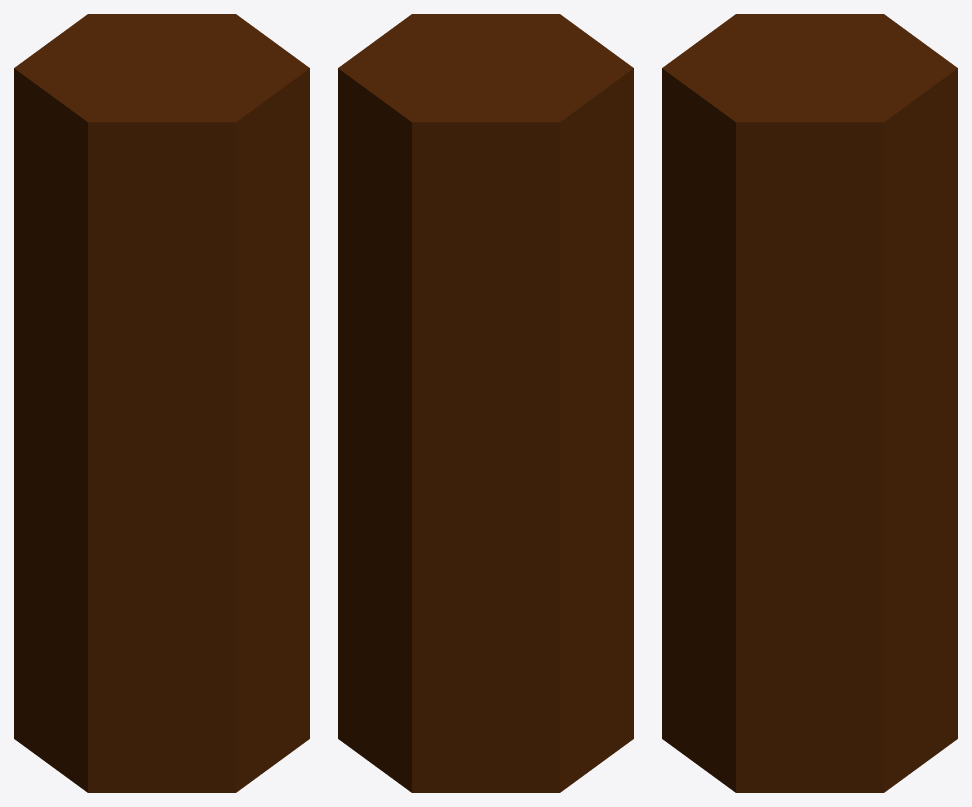
3 views of the same model, side by side, from view 1: azimuth 30°, elevation 25°; view 2: azimuth 150°, elevation 25°; view 3: azimuth 270°, elevation 25° (orthographic).
Visible parts, largest first — view 1: 高山; view 2: 高山; view 3: 高山.
Part boxes in pixels (bbox=[...]): 高山: bbox=[14, 14, 309, 792]; 高山: bbox=[338, 14, 633, 792]; 高山: bbox=[662, 14, 957, 792].
Bounding box in the file's own units: 400 × 346 × 1000.
